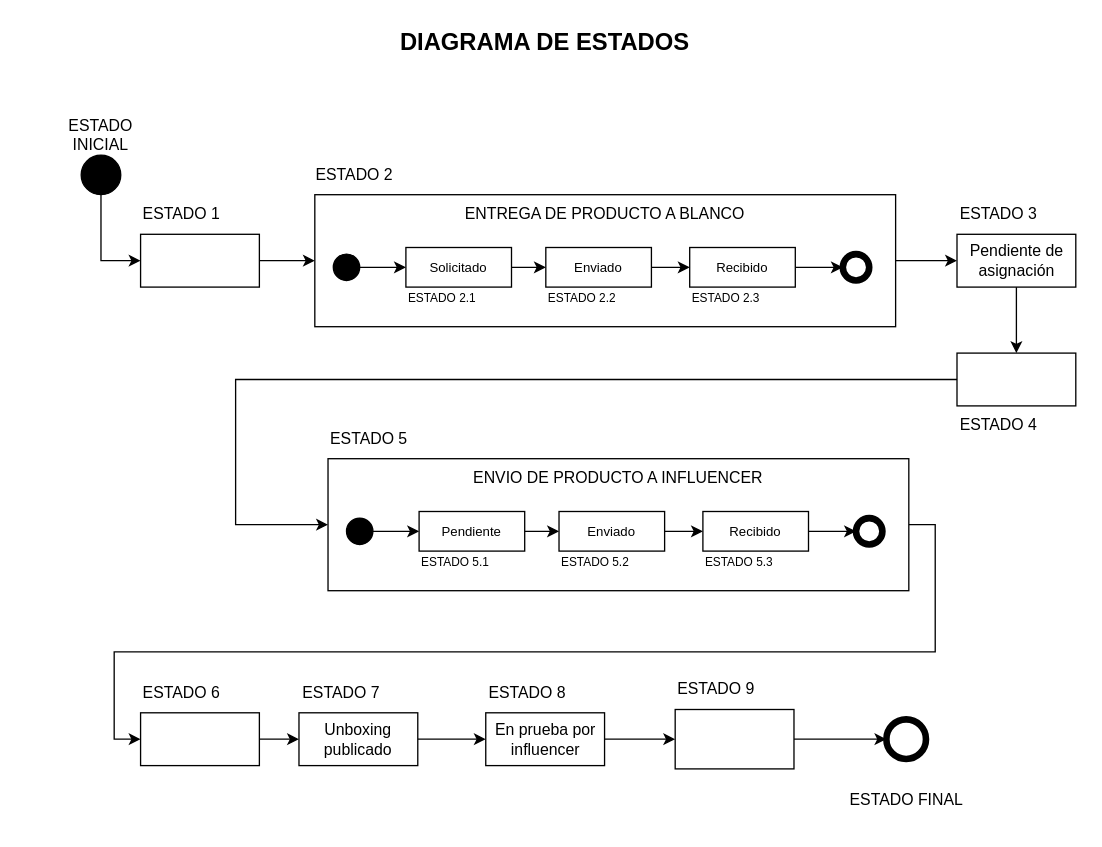
The diagram is 1102 pixels wide and 847 high, and some of its shapes have lost their labels. Each missing label, with the centre of its shape:
"Asignado a influencer" goes at point 1016,379.
"Producto cargado" goes at point 199,260.
"Producto reseñado" goes at point 734,738.
"Unboxing pendiente" goes at point 199,738.
